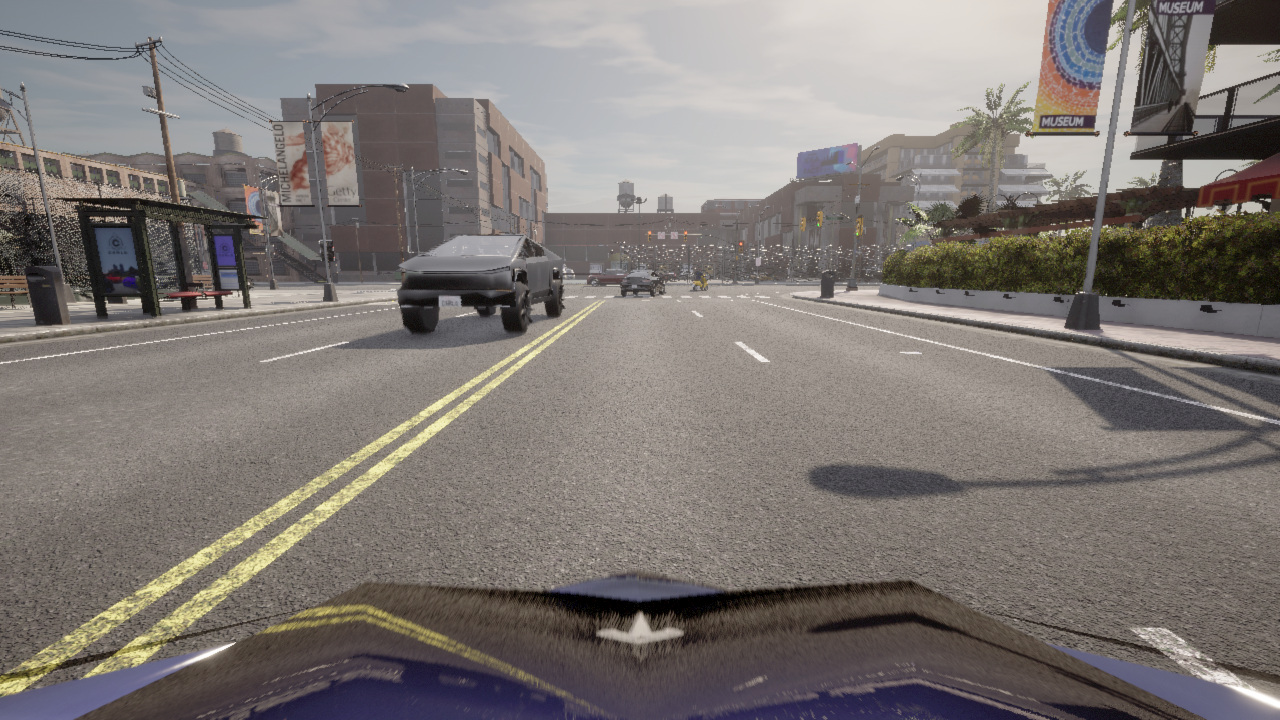cyclist: (0, 569, 1279, 719), (397, 234, 565, 333), (619, 269, 666, 296), (586, 269, 628, 285), (854, 266, 882, 281), (14, 266, 44, 277), (729, 269, 756, 279), (748, 272, 778, 280), (656, 270, 676, 281), (692, 276, 707, 290), (681, 265, 693, 278), (563, 264, 573, 279), (737, 272, 752, 279), (589, 265, 601, 272), (81, 272, 87, 283), (247, 277, 253, 288), (563, 268, 566, 278), (744, 276, 751, 280), (640, 265, 645, 268), (71, 273, 74, 274)
